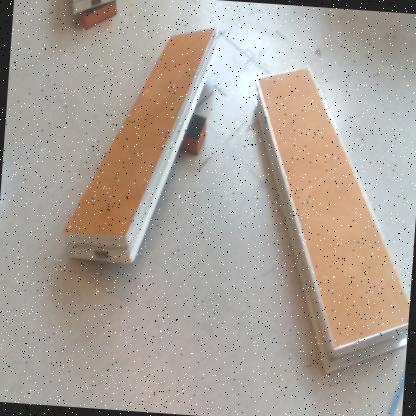Stairs: (255, 66, 411, 376), (64, 28, 217, 265), (71, 1, 113, 14)
